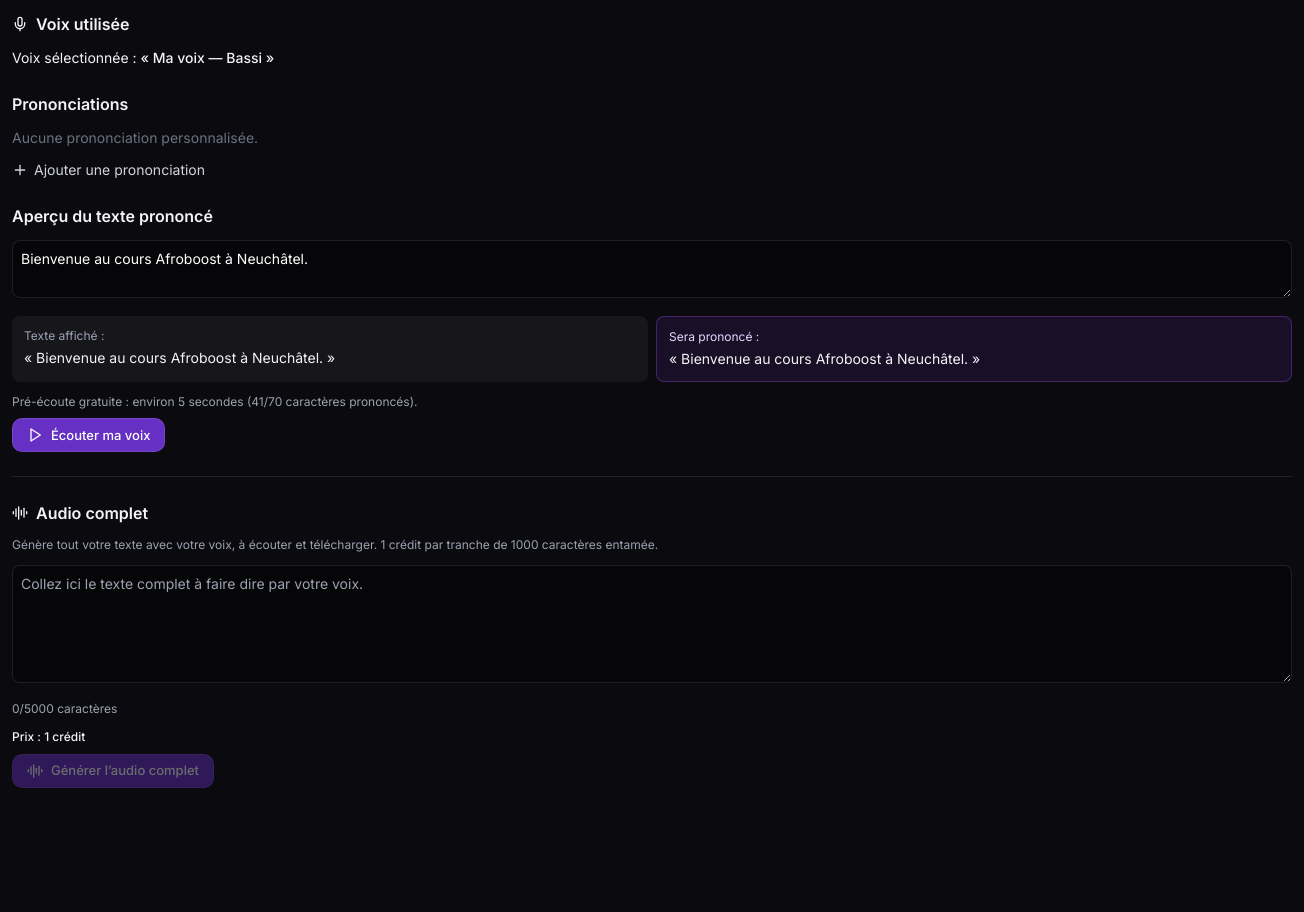
Test: MaVoixPanel — audio complet › ⚠️ la pré-écoute n’a ni contrôles natifs (donc ni menu ⋮ ni téléchargement) ni lien de téléchargement
Click the button "Écouter ma voix". click: (89, 435)
box: [12,418,165,452]
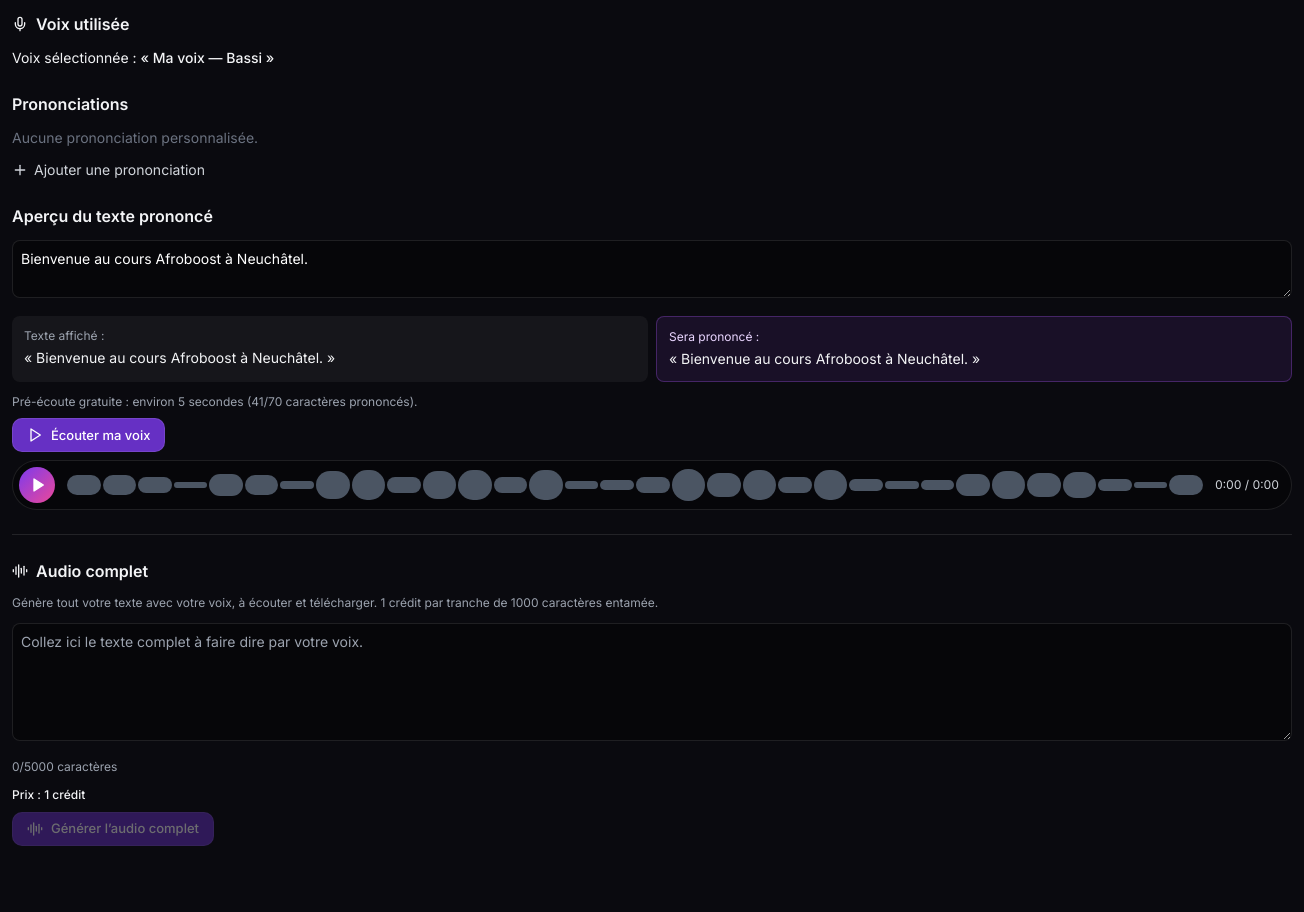
Now the element showing "0:00 / 0:00" is shown, box [12,460,1292,510]
